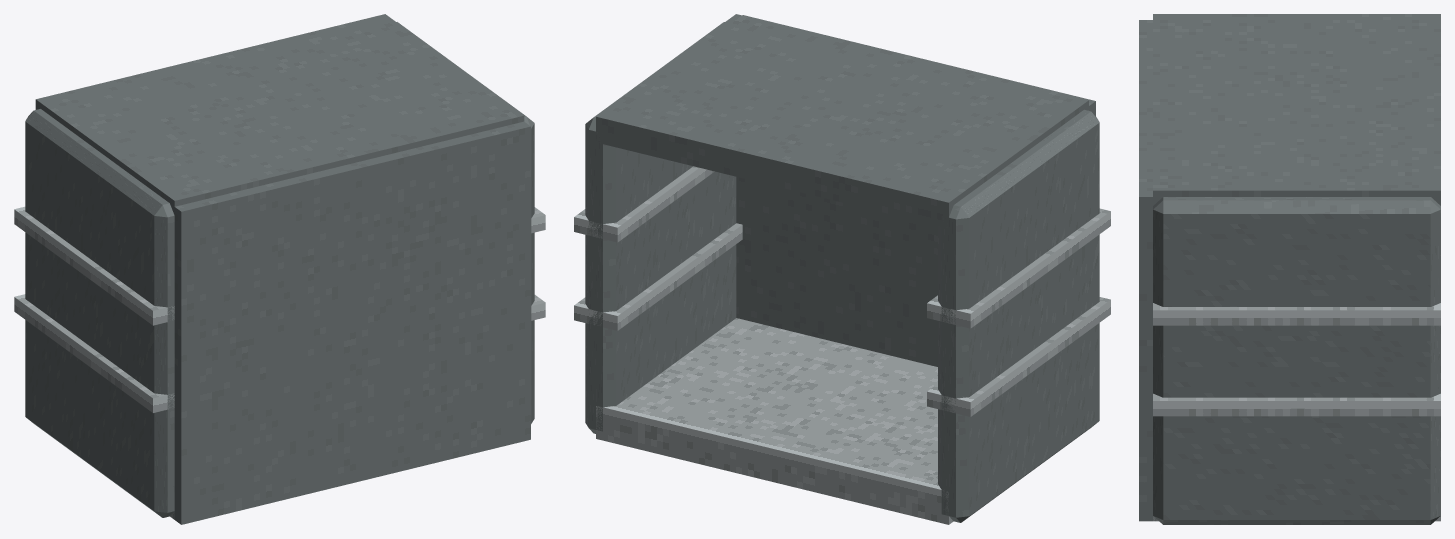
Rendered from oven_cabinet.glb.
3 views of the same model, side by side, from view 1: azimuth 30°, elevation 25°; view 2: azimuth 150°, elevation 25°; view 3: azimuth 270°, elevation 25° (orthographic). The views are drawn at different scales.
Parts seen in each view (by area): view 1: block_rear wall, block_bare steel top, block_bare steel cabinet side (×2), block_internal shelf rail (×2); view 2: block_bare steel cabinet side (×2), block_bare steel top, block_cabinet floor, block_rear wall, block_internal shelf rail (×4); view 3: block_bare steel cabinet side, block_bare steel top, block_internal shelf rail (×2), block_rear wall.
Part boxes in pixels (x1,y1,x2,y2): block_rear wall: [170, 121, 530, 524]; block_bare steel top: [35, 14, 524, 206]; block_bare steel cabinet side (×2): [25, 22, 534, 517]; block_internal shelf rail (×2): [14, 206, 174, 412]; block_bare steel cabinet side (×2): [585, 22, 1099, 522]; block_bare steel top: [596, 14, 1088, 227]; block_cabinet floor: [596, 318, 953, 524]; block_rear wall: [736, 15, 1095, 366]; block_internal shelf rail (×4): [574, 166, 1110, 416]; block_bare steel cabinet side: [1153, 197, 1440, 524]; block_bare steel top: [1153, 14, 1440, 205]; block_internal shelf rail (×2): [1153, 303, 1440, 416]; block_rear wall: [1139, 20, 1162, 521].
Size of the model in its own units: 0.69 by 0.5357 by 0.4432.
1 material, 1 textured.
